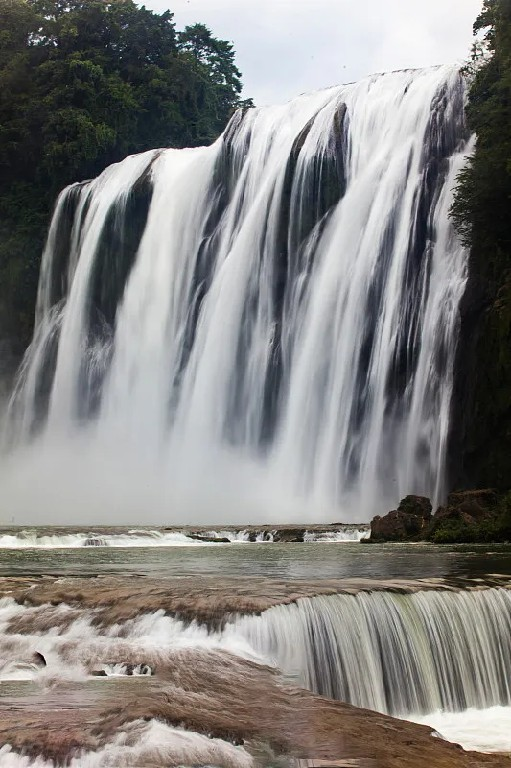Huangguoshu: (17, 64, 470, 524)
